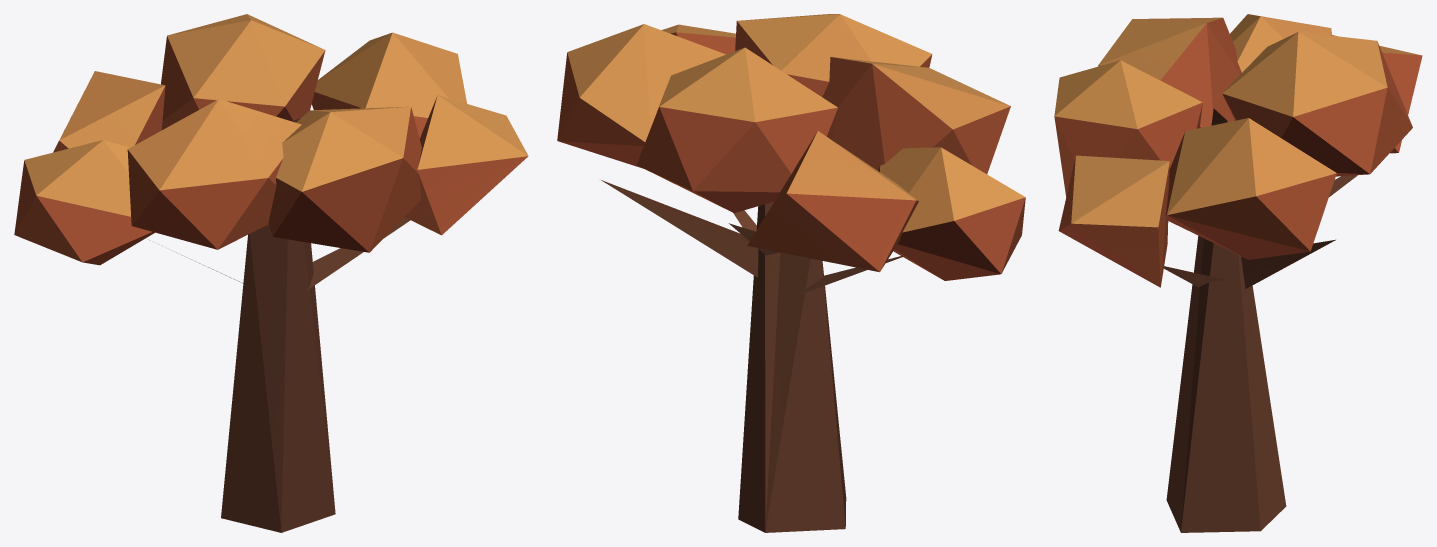
3 views of the same model, side by side, from view 1: azimuth 30°, elevation 25°; view 2: azimuth 150°, elevation 25°; view 3: azimuth 270°, elevation 25° (orthographic). The views are drawn at different scales.
Visible parts, largest first — view 1: WK_Tree_Maple_EmberCrown_LOD2_Compact; view 2: WK_Tree_Maple_EmberCrown_LOD2_Compact; view 3: WK_Tree_Maple_EmberCrown_LOD2_Compact.
Part boxes in pixels (x1=…): WK_Tree_Maple_EmberCrown_LOD2_Compact: x1=14, y1=14, x2=528, y2=532; WK_Tree_Maple_EmberCrown_LOD2_Compact: x1=557, y1=14, x2=1025, y2=532; WK_Tree_Maple_EmberCrown_LOD2_Compact: x1=1054, y1=14, x2=1422, y2=532.
Bounding box in the file's own units: 4.87 × 5.02 × 3.44.
